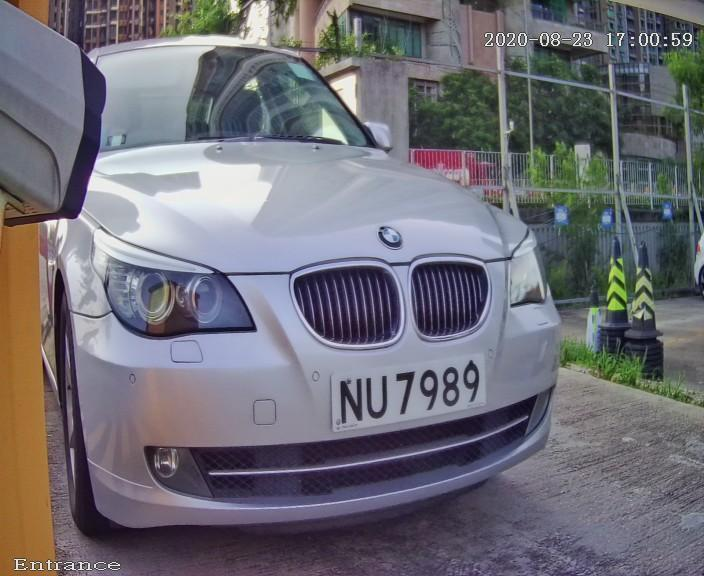Car: (13, 16, 604, 553)
License Plate: (297, 313, 534, 460)
